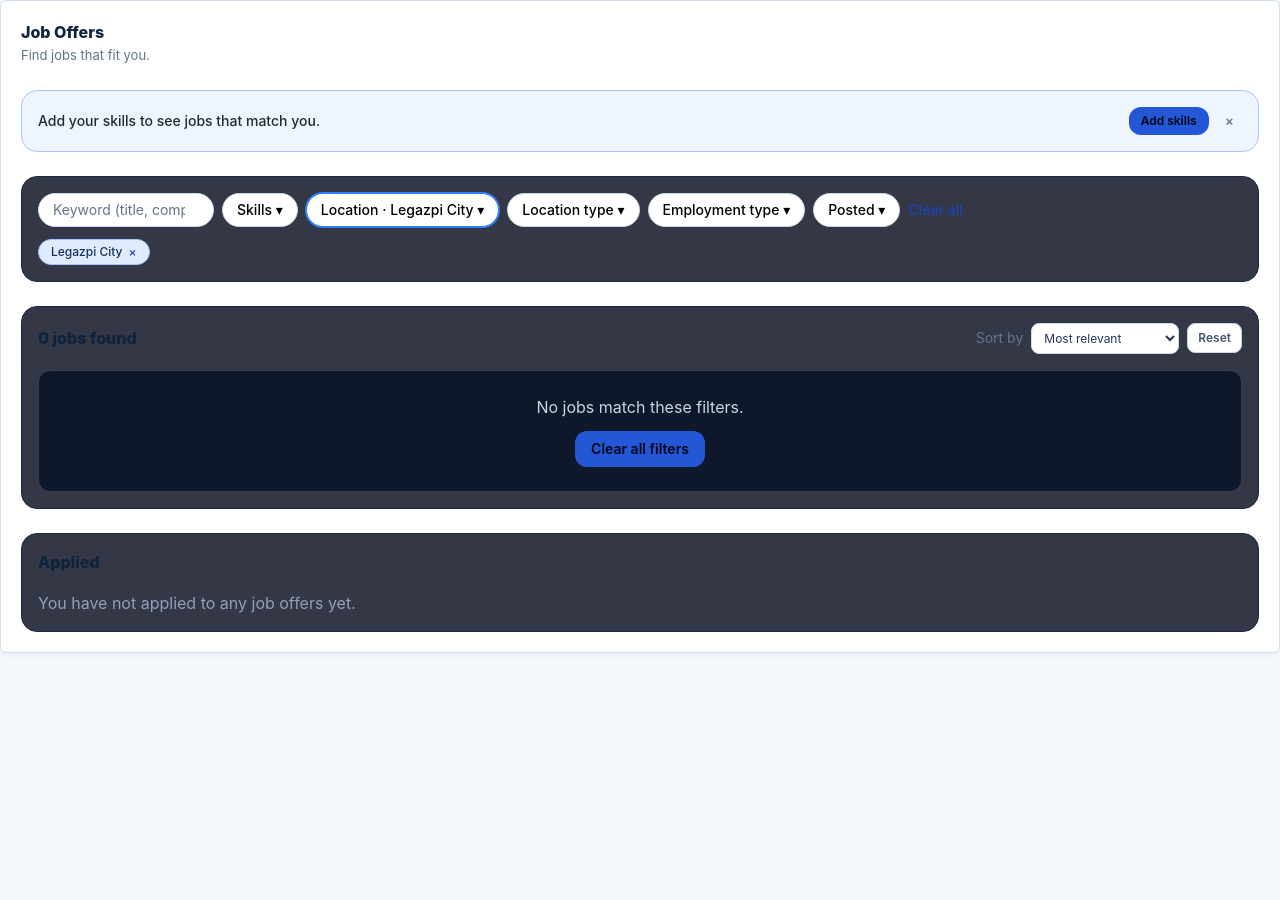
Applicant job board empty states › shows "No jobs match these filters" with a Clear all button when filters return nothing
This screenshot has width=1280, height=900.
expect the text "No jobs match these filters." is shown: met, box [536,397,744,417]
Click the button "Clear all filters" at (640, 449), box [575,431,705,467]
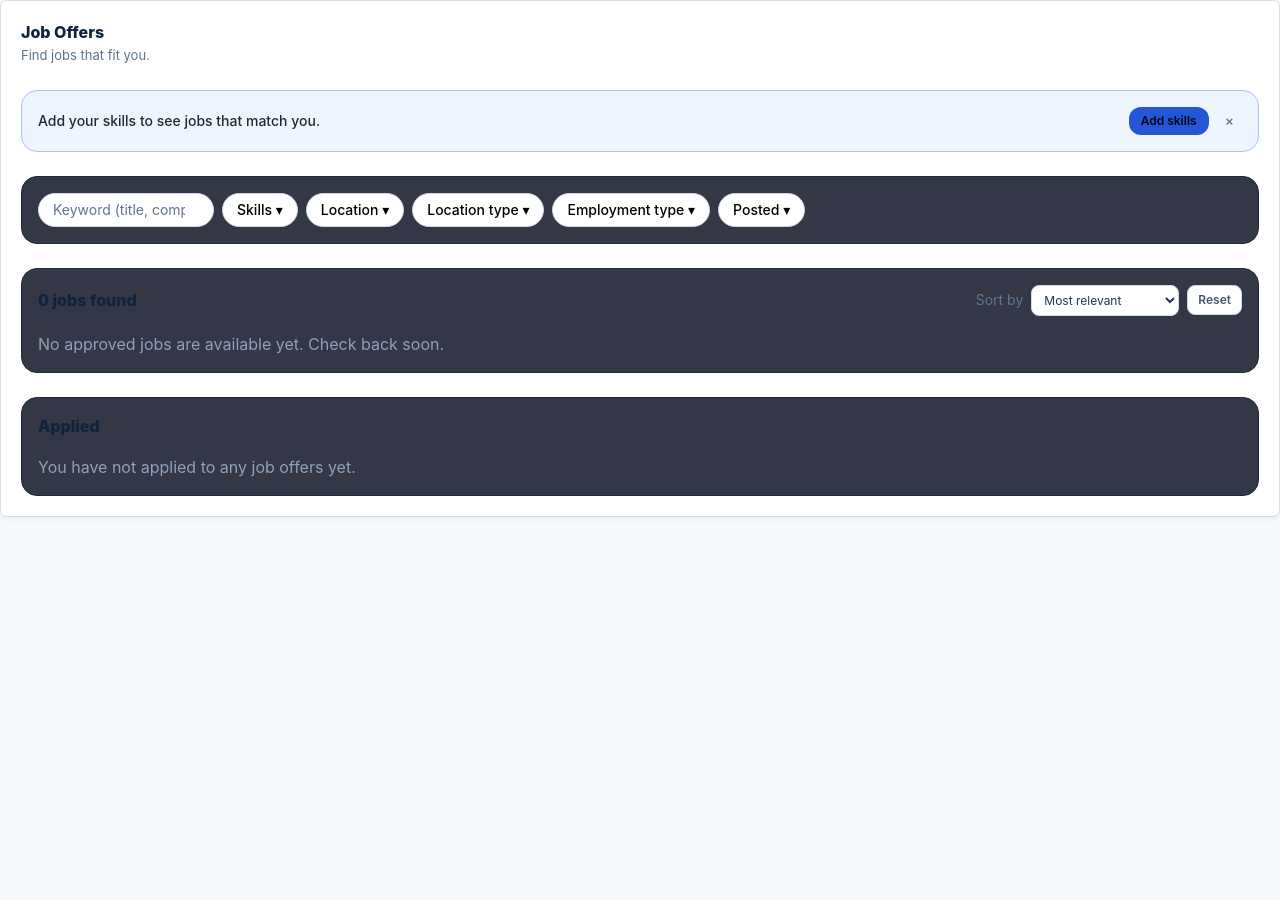
expect the text "No approved jobs are available yet. Check back soon." is shown: met, box [38,334,444,354]
